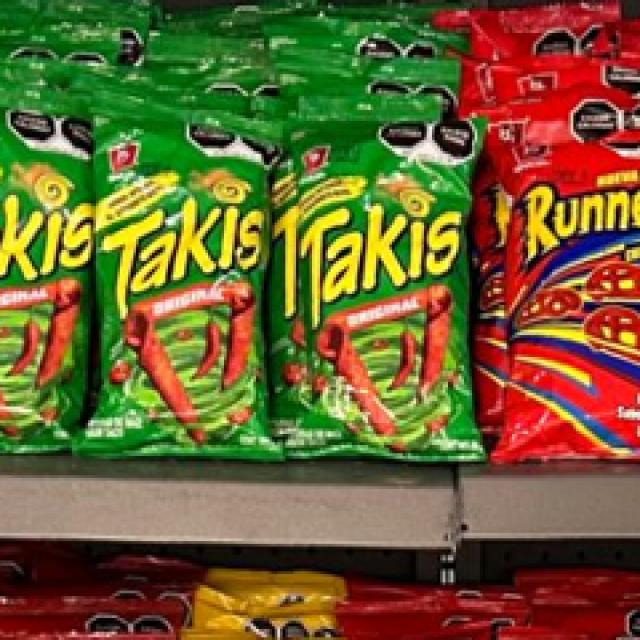runners: (498, 135, 640, 454)
takisOriginal: (92, 115, 263, 459), (297, 126, 469, 460), (0, 109, 88, 450)
